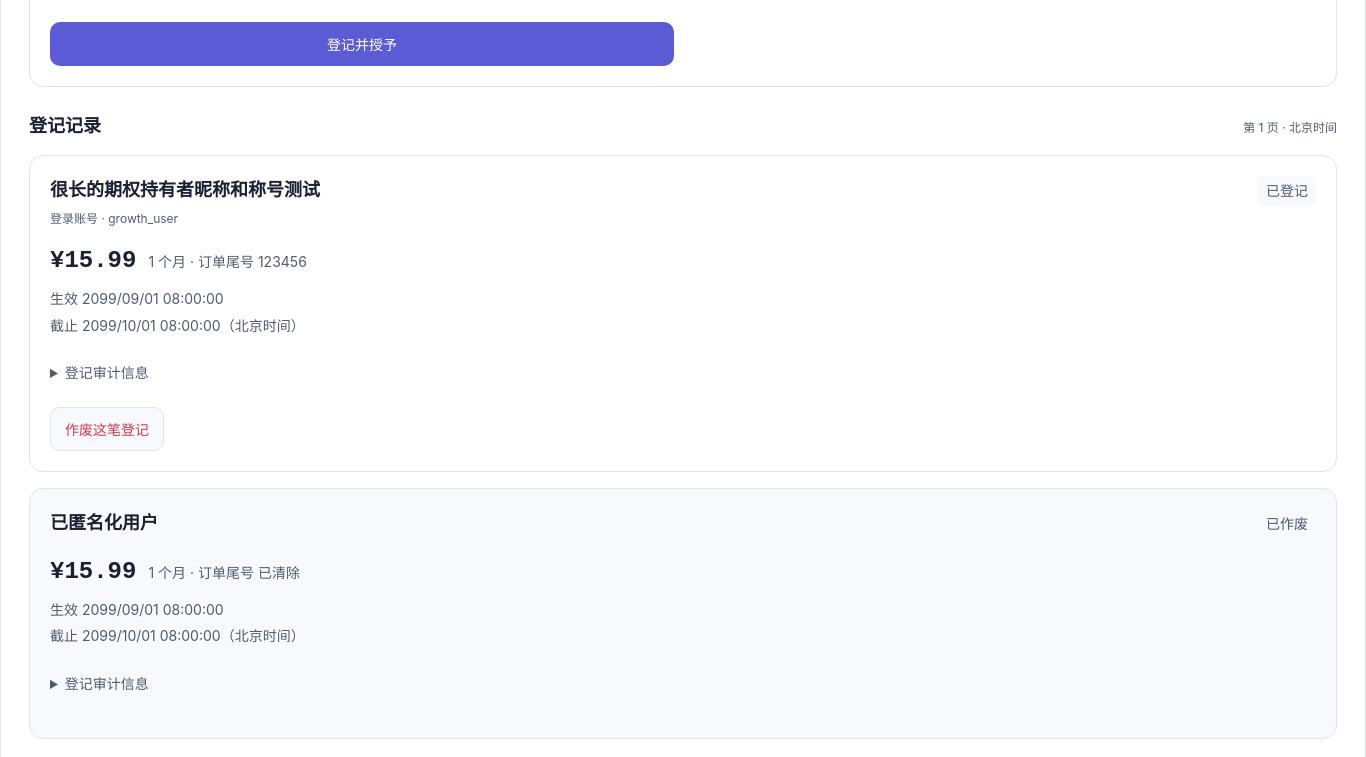
fish activity and supporter management UI › separates effective and gross totals and displays real dates, order tails and audit records
This screenshot has width=1366, height=757.
(page scrolled)
Expected: the text "很长的期权持有者昵称和称号测试" is shown, [50, 176, 320, 203]
Expected: the text "¥31.98" is not shown
Click the heading "登记审计信息" below "123456".
click(107, 373)  # box [65, 364, 149, 381]
(page scrolled)
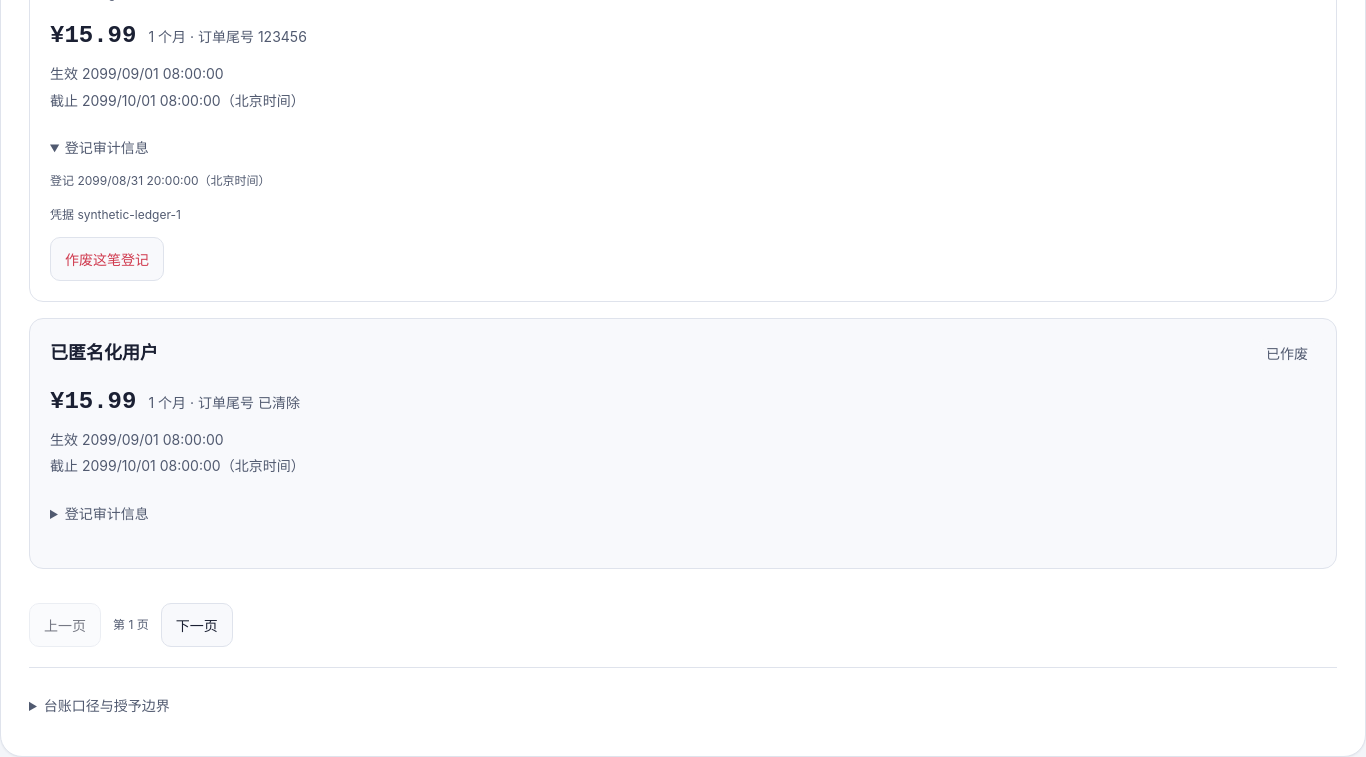
Expected: the text "原始累计（含作废）：¥31.98" is not shown
Now the text "凭据 synthetic-ledger-1" is shown, box [50, 207, 181, 222]
Click the heading "台账口径与授予边界".
click(107, 706)  # box [44, 697, 170, 714]
(page scrolled)
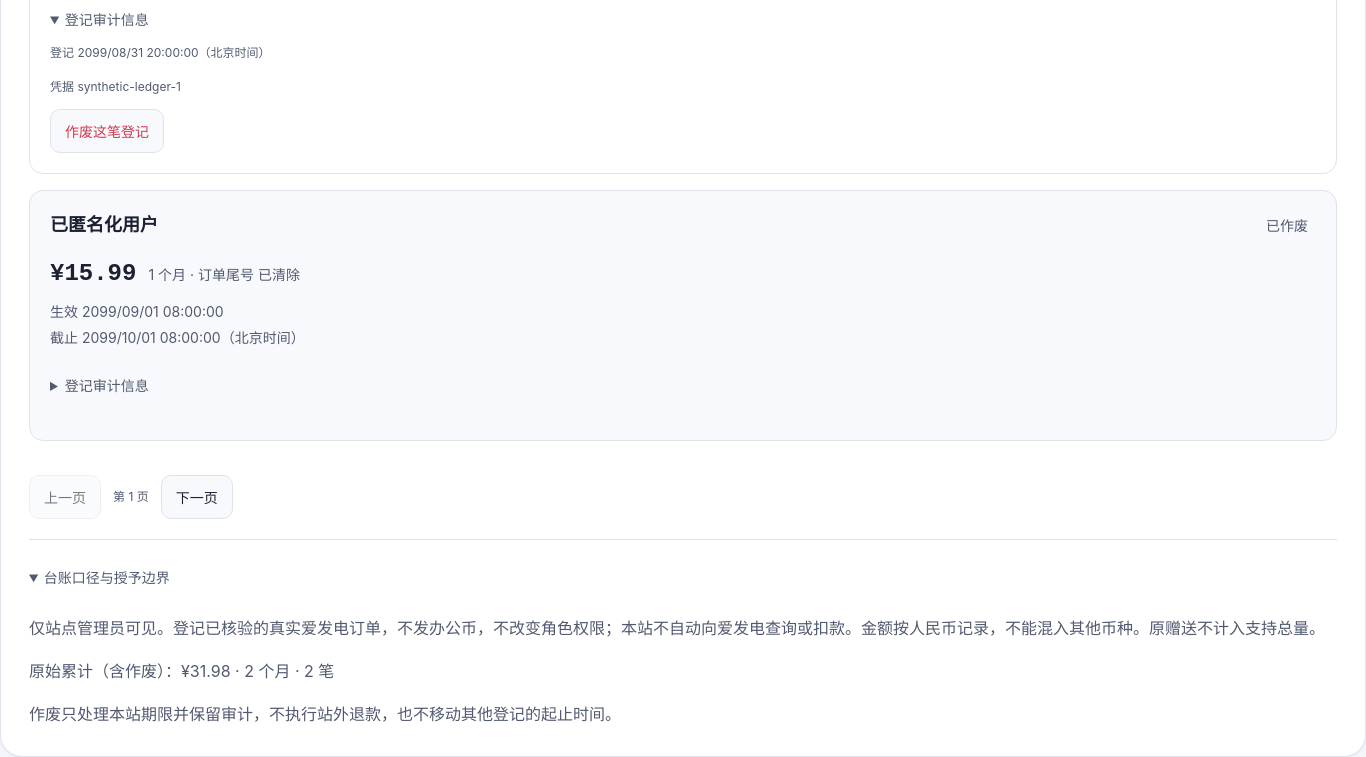
Now the text "原始累计（含作废）：¥31.98 · 2 个月 · 2 笔" is shown, box [29, 661, 334, 681]
